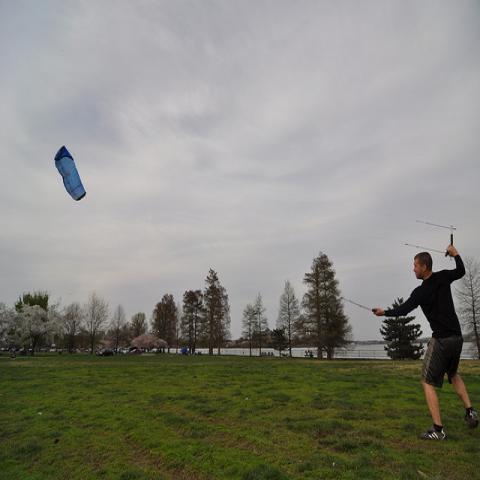car: (98, 348, 115, 356), (129, 348, 142, 356), (50, 344, 56, 352), (124, 348, 129, 354)
